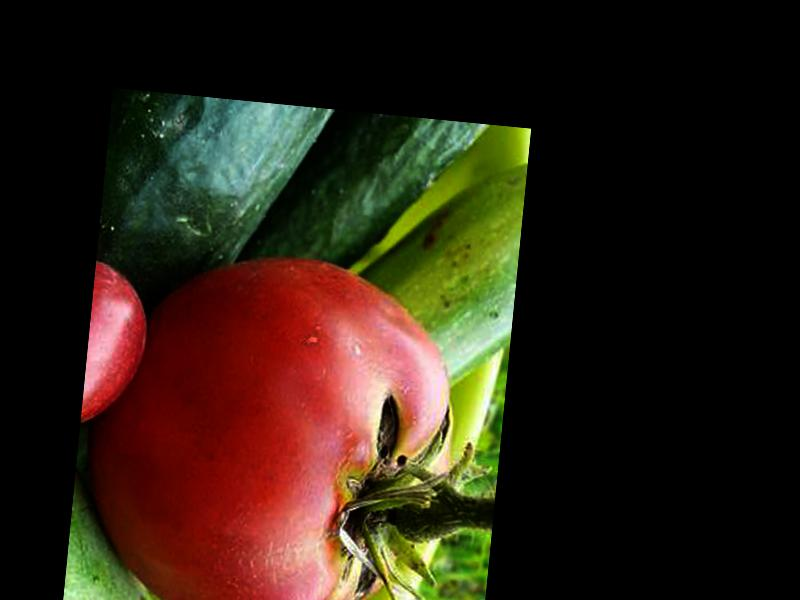Tomato: (69, 242, 462, 600)
